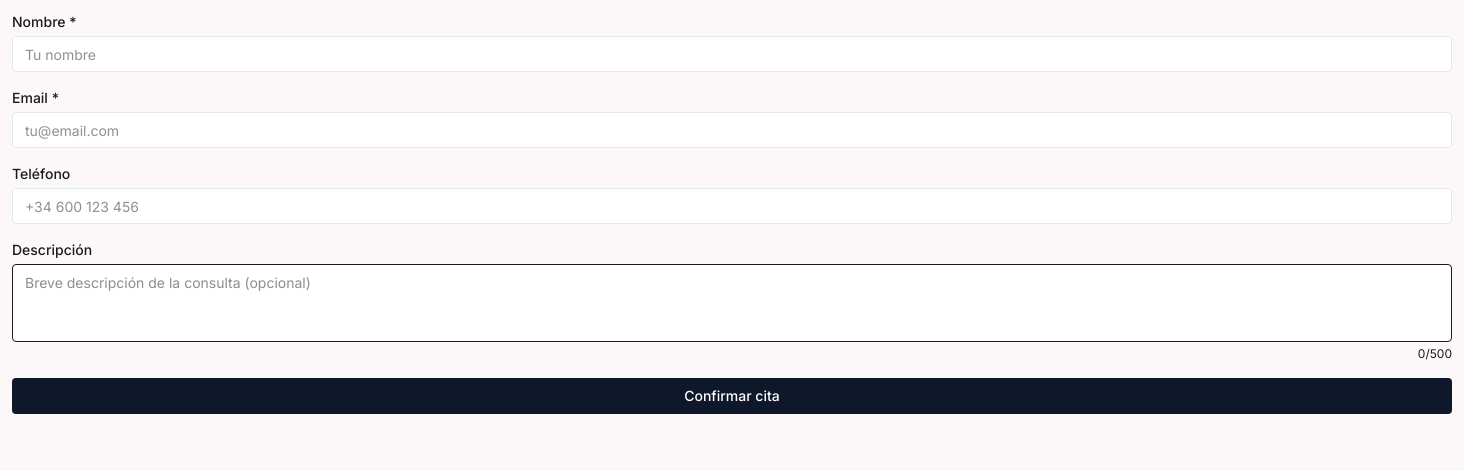
BookingForm › shows validation errors on empty submit
This screenshot has width=1464, height=471.
What coordinates should you click on to do the following:
click the button "Confirmar cita"
I would click on:
 (732, 396)
Its box is [12,378,1452,414].
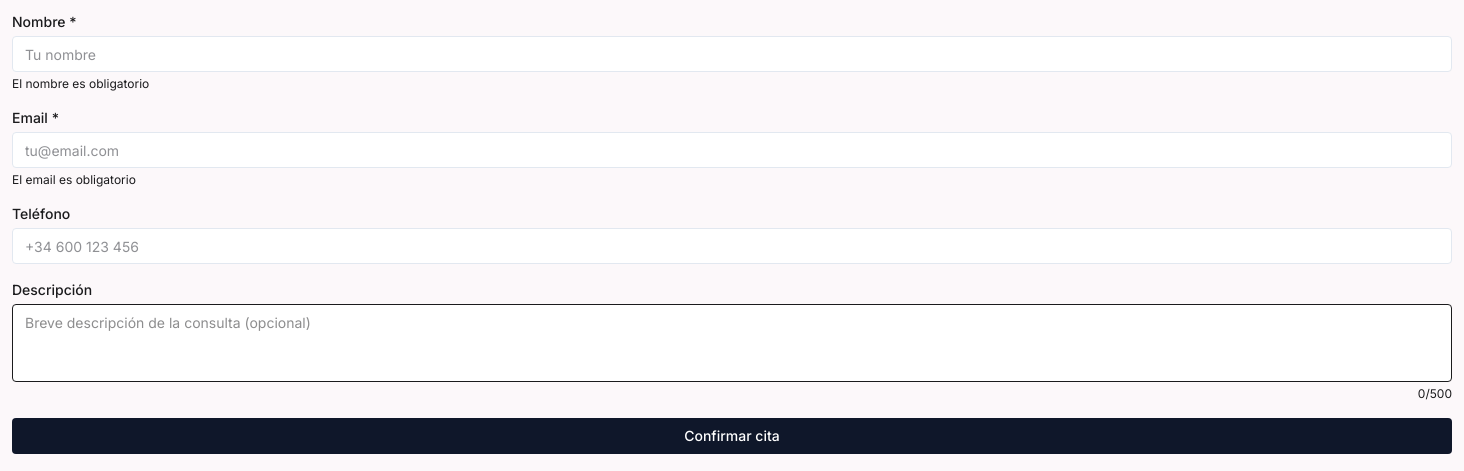
expect the text "El nombre es obligatorio" is shown: met, box [12,76,149,91]
expect the text "El email es obligatorio" is shown: met, box [12,172,136,187]
